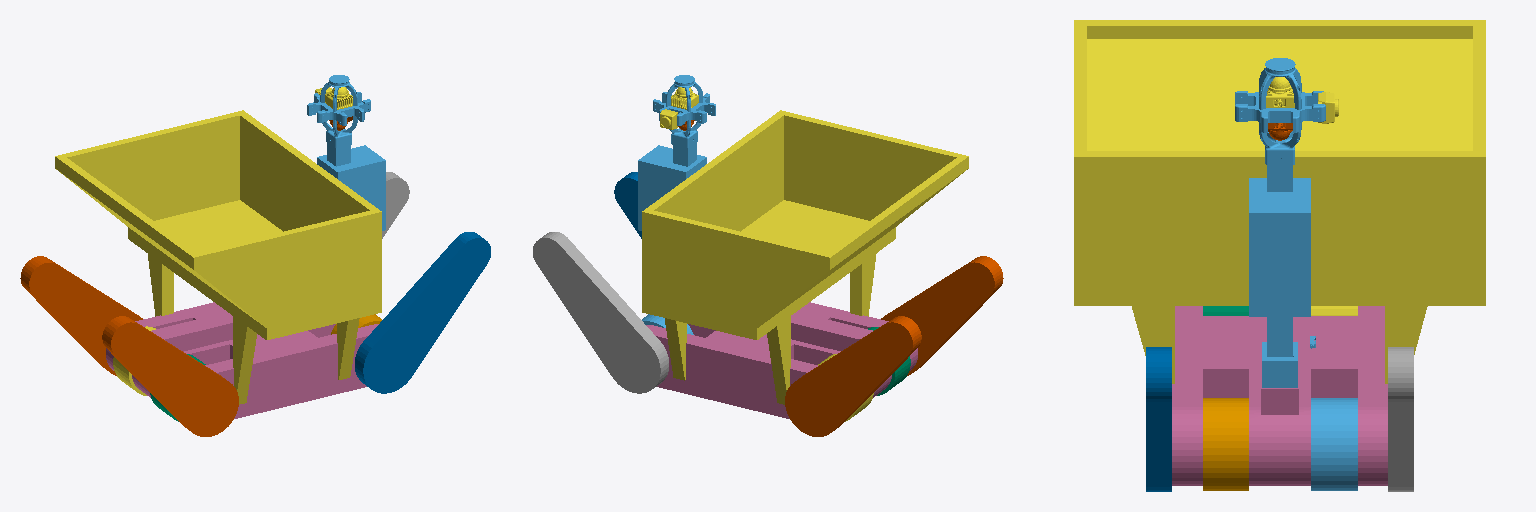
The robot description file, URDF, robot "rove_caged":
<robot name="rove_caged">
  <link name="DrumBL">
    <visual>
      <geometry>
        <mesh filename="meshes/DrumBL.obj" />
      </geometry>
    </visual>
    <collision>
      <geometry>
        <cylinder radius="0.089910" length="0.089000" /></geometry>
    <origin rpy="1.570796 0.000000 0.000000" xyz="0.290103 0.104500 0.088809" /></collision>
  <inertial><origin xyz="0.290103 0.104500 0.088809" rpy="0 0 0" /><mass value="1.0" /><inertia ixx="0.003356" iyy="0.005389" izz="0.003353" ixy="0" ixz="0" iyz="0" /></inertial></link>
  <link name="DrumBR">
    <visual>
      <geometry>
        <mesh filename="meshes/DrumBR.obj" />
      </geometry>
    </visual>
    <collision>
      <geometry>
        <cylinder radius="0.089910" length="0.090000" /></geometry>
    <origin rpy="1.570796 0.000000 0.000000" xyz="0.290343 0.314000 0.088809" /></collision>
  <inertial><origin xyz="0.290343 0.314000 0.088809" rpy="0 0 0" /><mass value="1.0" /><inertia ixx="0.003371" iyy="0.005389" izz="0.003368" ixy="0" ixz="0" iyz="0" /></inertial></link>
  <link name="DrumFL">
    <visual>
      <geometry>
        <mesh filename="meshes/DrumFL.obj" />
      </geometry>
    </visual>
    <collision>
      <geometry>
        <cylinder radius="0.089910" length="0.089000" /></geometry>
    <origin rpy="1.570796 0.000000 0.000000" xyz="-0.299897 0.104500 0.088809" /></collision>
  <inertial><origin xyz="-0.299897 0.104500 0.088809" rpy="0 0 0" /><mass value="1.0" /><inertia ixx="0.003356" iyy="0.005389" izz="0.003353" ixy="0" ixz="0" iyz="0" /></inertial></link>
  <link name="DrumFR">
    <visual>
      <geometry>
        <mesh filename="meshes/DrumFR.obj" />
      </geometry>
    </visual>
    <collision>
      <geometry>
        <cylinder radius="0.089910" length="0.090000" /></geometry>
    <origin rpy="1.570796 0.000000 0.000000" xyz="-0.299657 0.314000 0.088809" /></collision>
  <inertial><origin xyz="-0.299657 0.314000 0.088809" rpy="0 0 0" /><mass value="1.0" /><inertia ixx="0.003371" iyy="0.005389" izz="0.003368" ixy="0" ixz="0" iyz="0" /></inertial></link>
  <link name="FlipperBL">
    <visual>
      <geometry>
        <mesh filename="meshes/FlipperBL.obj" />
      </geometry>
    </visual>
    <collision>
      <geometry>
        <box size="0.423242 0.050000 0.422734" /></geometry>
    <origin rpy="0 0 0" xyz="0.412076 -0.025000 0.210185" /></collision>
  <inertial><origin xyz="0.412076 -0.025000 0.210185" rpy="0 0 0" /><mass value="1.0" /><inertia ixx="0.015100" iyy="0.029820" izz="0.015136" ixy="0" ixz="0" iyz="0" /></inertial></link>
  <link name="FlipperFL">
    <visual>
      <geometry>
        <mesh filename="meshes/FlipperFL.obj" />
      </geometry>
    </visual>
    <collision>
      <geometry>
        <box size="0.422734 0.050000 0.423242" /></geometry>
    <origin rpy="0 0 0" xyz="-0.421153 -0.025000 0.210662" /></collision>
  <inertial><origin xyz="-0.421153 -0.025000 0.210662" rpy="0 0 0" /><mass value="1.0" /><inertia ixx="0.015136" iyy="0.029820" izz="0.015100" ixy="0" ixz="0" iyz="0" /></inertial></link>
  <link name="Core">
    <visual>
      <geometry>
        <mesh filename="meshes/Core.obj" />
      </geometry>
    </visual>
    <collision>
      <geometry>
        <box size="0.817613 0.418000 0.092314" /></geometry>
    <origin rpy="0 0 0" xyz="-0.038583 0.209000 0.174966" /></collision>
  <inertial><origin xyz="-0.038583 0.209000 0.051272" rpy="0 0 0" /><mass value="1.0" /><inertia ixx="0.018317" iyy="0.059464" izz="0.070268" ixy="0" ixz="0" iyz="0" /></inertial></link>
  <joint name="joint_revolute" type="continuous">
    <origin xyz="-0.299777 0.149 0.0888089" rpy="0 0 0" />
    <parent link="Core" />
    <child link="DrumFL_pivot" />
    <axis xyz="0 -1 0" />
    <limit effort="10" velocity="1" />
  </joint>
  <link name="DrumFL_pivot" />
  <joint name="joint_revolute_offset" type="fixed">
    <origin xyz="0.299777 -0.149 -0.0888089" rpy="0 0 0" />
    <parent link="DrumFL_pivot" />
    <child link="DrumFL" />
  </joint>
  <joint name="joint_revolute_2" type="continuous">
    <origin xyz="-0.299777 0.269 0.0888089" rpy="0 0 0" />
    <parent link="Core" />
    <child link="DrumFR_pivot" />
    <axis xyz="0 1 0" />
    <limit effort="10" velocity="1" />
  </joint>
  <link name="DrumFR_pivot" />
  <joint name="joint_revolute_2_offset" type="fixed">
    <origin xyz="0.299777 -0.269 -0.0888089" rpy="0 0 0" />
    <parent link="DrumFR_pivot" />
    <child link="DrumFR" />
  </joint>
  <joint name="joint_revolute_3" type="continuous">
    <origin xyz="0.290223 0.149 0.0888089" rpy="0 0 0" />
    <parent link="Core" />
    <child link="DrumBL_pivot" />
    <axis xyz="0 -1 0" />
    <limit effort="10" velocity="1" />
  </joint>
  <link name="DrumBL_pivot" />
  <joint name="joint_revolute_3_offset" type="fixed">
    <origin xyz="-0.290223 -0.149 -0.0888089" rpy="0 0 0" />
    <parent link="DrumBL_pivot" />
    <child link="DrumBL" />
  </joint>
  <joint name="joint_revolute_4" type="continuous">
    <origin xyz="0.290223 0.290223 0.0888089" rpy="0 0 0" />
    <parent link="Core" />
    <child link="DrumBR_pivot" />
    <axis xyz="0 1 0" />
    <limit effort="10" velocity="1" />
  </joint>
  <link name="DrumBR_pivot" />
  <joint name="joint_revolute_4_offset" type="fixed">
    <origin xyz="-0.290223 -0.29 -0.0888089" rpy="0 0 0" />
    <parent link="DrumBR_pivot" />
    <child link="DrumBR" />
  </joint>
  <joint name="joint_revolute_5" type="revolute">
    <origin xyz="0.290223 0 0.0888089" rpy="0 0 0" />
    <parent link="Core" />
    <child link="FlipperBL_pivot" />
    <axis xyz="-1.77962e-08 -1 0" />
    <limit lower="-3.14159" upper="3.14159" effort="10" velocity="1" />
  </joint>
  <link name="FlipperBL_pivot" />
  <joint name="joint_revolute_5_offset" type="fixed">
    <origin xyz="-0.290223 0 -0.0888089" rpy="0 0 0" />
    <parent link="FlipperBL_pivot" />
    <child link="FlipperBL" />
  </joint>
  <joint name="joint_revolute_6" type="revolute">
    <origin xyz="-0.299777 0 0.0888089" rpy="0 0 0" />
    <parent link="Core" />
    <child link="FlipperFL_pivot" />
    <axis xyz="1.77962e-08 -1 0" />
    <limit lower="-3.14159" upper="3.14159" effort="10" velocity="1" />
  </joint>
  <link name="FlipperFL_pivot" />
  <joint name="joint_revolute_6_offset" type="fixed">
    <origin xyz="0.299777 0 -0.0888089" rpy="0 0 0" />
    <parent link="FlipperFL_pivot" />
    <child link="FlipperFL" />
  </joint>
  <link name="FlipperFR">
    <visual>
      <geometry>
        <mesh filename="meshes/FlipperFR_2.obj" />
      </geometry>
    </visual>
    <collision>
      <geometry>
        <box size="0.422734 0.050000 0.423242" /></geometry>
    <origin rpy="0 0 0" xyz="-0.421153 0.443000 0.210662" /></collision>
  <inertial><origin xyz="-0.421153 0.443000 0.210662" rpy="0 0 0" /><mass value="1.0" /><inertia ixx="0.015136" iyy="0.029820" izz="0.015100" ixy="0" ixz="0" iyz="0" /></inertial></link>
  <joint name="joint_revolute_7" type="revolute">
    <origin xyz="-0.299777 0.418 0.0888089" rpy="0 0 0" />
    <parent link="Core" />
    <child link="FlipperFR_pivot" />
    <axis xyz="0 1 0" />
    <limit lower="-3.14159" upper="3.14159" effort="10" velocity="1" />
  </joint>
  <link name="FlipperFR_pivot" />
  <joint name="joint_revolute_7_offset" type="fixed">
    <origin xyz="0.299777 -0.418 -0.0888089" rpy="0 0 0" />
    <parent link="FlipperFR_pivot" />
    <child link="FlipperFR" />
  </joint>
  <link name="FlipperBR">
    <visual>
      <geometry>
        <mesh filename="meshes/FlipperBR_2.obj" />
      </geometry>
    </visual>
    <collision>
      <geometry>
        <box size="0.423242 0.050000 0.422734" /></geometry>
    <origin rpy="0 0 0" xyz="0.412076 0.443000 0.210185" /></collision>
  <inertial><origin xyz="0.412076 0.443000 0.210185" rpy="0 0 0" /><mass value="1.0" /><inertia ixx="0.015100" iyy="0.029820" izz="0.015136" ixy="0" ixz="0" iyz="0" /></inertial></link>
  <joint name="joint_revolute_8" type="revolute">
    <origin xyz="0.290223 0.418 0.0888089" rpy="0 0 0" />
    <parent link="Core" />
    <child link="FlipperBR_pivot" />
    <axis xyz="0 1 0" />
    <limit lower="-3.14159" upper="3.14159" effort="10" velocity="1" />
  </joint>
  <link name="FlipperBR_pivot" />
  <joint name="joint_revolute_8_offset" type="fixed">
    <origin xyz="-0.290223 -0.418 -0.0888089" rpy="0 0 0" />
    <parent link="FlipperBR_pivot" />
    <child link="FlipperBR" />
  </joint>
  <link name="pole">
    <visual>
      <geometry>
        <mesh filename="meshes/pole.obj" />
      </geometry>
    </visual>
    </link>
  <joint name="joint_revolute_9" type="fixed">
    <origin xyz="0.31746 0.209 0.221123" rpy="0 0 0" />
    <parent link="Core" />
    <child link="pole_pivot" />
    <axis xyz="0 0 1" />
    <limit lower="-3.14159" upper="3.14159" effort="10" velocity="1" />
  </joint>
  <link name="pole_pivot" />
  <joint name="joint_revolute_9_offset" type="fixed">
    <origin xyz="-0.0467844 0.000515604 -0.00281394" rpy="0 0 -1.5708" />
    <parent link="pole_pivot" />
    <child link="pole" />
  </joint>
  <link name="dji_mid360">
    <visual>
      <geometry>
        <mesh filename="meshes/dji_mid360.obj" />
      </geometry>
    </visual>
    </link>
  <joint name="joint_revolute_10" type="fixed">
    <origin xyz="-9.31322e-11 -2.66092e-11 0.587" rpy="0 0 0" />
    <parent link="pole" />
    <child link="dji_mid360_pivot" />
    <axis xyz="0 0 1" />
    <limit lower="-3.14159" upper="3.14159" effort="10" velocity="1" />
  </joint>
  <link name="dji_mid360_pivot" />
  <joint name="joint_revolute_10_offset" type="fixed">
    <origin xyz="0.00112693 0.0015559 0.0289736" rpy="1.5708 0 1.5708" />
    <parent link="dji_mid360_pivot" />
    <child link="dji_mid360" />
  </joint>
  <link name="dji_mid360_2">
    <visual>
      <geometry>
        <mesh filename="meshes/dji_mid360.obj" />
      </geometry>
    </visual>
    </link>
  <joint name="joint_revolute_11" type="fixed">
    <origin xyz="4.59098e-18 0 0.574" rpy="0 0 0" />
    <parent link="pole" />
    <child link="dji_mid360_2_pivot" />
    <axis xyz="0 0 -1" />
    <limit lower="-3.14159" upper="3.14159" effort="10" velocity="1" />
  </joint>
  <link name="dji_mid360_2_pivot" />
  <joint name="joint_revolute_11_offset" type="fixed">
    <origin xyz="0.000551953 -0.000521468 -0.0284671" rpy="-1.5708 0 1.5708" />
    <parent link="dji_mid360_2_pivot" />
    <child link="dji_mid360_2" />
  </joint>
  <link name="chinese_camera">
    <visual>
      <geometry>
        <mesh filename="meshes/chinese_camera.obj" />
      </geometry>
    </visual>
    </link>
  <joint name="joint_revolute_12" type="fixed">
    <origin xyz="0.0725343 -0.024 0.587101" rpy="0 0 0" />
    <parent link="pole" />
    <child link="chinese_camera_pivot" />
    <axis xyz="0 1 0" />
    <limit lower="-3.14159" upper="3.14159" effort="10" velocity="1" />
  </joint>
  <link name="chinese_camera_pivot" />
  <joint name="joint_revolute_12_offset" type="fixed">
    <origin xyz="0.0154955 0.0243019 -0.00922952" rpy="-1.5708 0 1.5708" />
    <parent link="chinese_camera_pivot" />
    <child link="chinese_camera" />
  </joint>
  <link name="chinese_camera_2">
    <visual>
      <geometry>
        <mesh filename="meshes/chinese_camera_2.obj" />
      </geometry>
    </visual>
    </link>
  <joint name="joint_revolute_13" type="fixed">
    <origin xyz="0.024 0.0730961 0.586861" rpy="0 0 0" />
    <parent link="pole" />
    <child link="chinese_camera_2_pivot" />
    <axis xyz="0 0.23939 0.970923" />
    <limit lower="-3.14159" upper="3.14159" effort="10" velocity="1" />
  </joint>
  <link name="chinese_camera_2_pivot" />
  <joint name="joint_revolute_13_offset" type="fixed">
    <origin xyz="-0.0239323 0.014361 -0.00867528" rpy="-1.5708 -1.38778e-16 3.14159" />
    <parent link="chinese_camera_2_pivot" />
    <child link="chinese_camera_2" />
  </joint>
  <link name="chinese_camera_3">
    <visual>
      <geometry>
        <mesh filename="meshes/chinese_camera_3.obj" />
      </geometry>
    </visual>
    </link>
  <joint name="joint_revolute_14" type="fixed">
    <origin xyz="-0.0730961 0.024 0.586861" rpy="0 0 0" />
    <parent link="pole" />
    <child link="chinese_camera_3_pivot" />
    <axis xyz="0 -1 0" />
    <limit lower="-3.14159" upper="3.14159" effort="10" velocity="1" />
  </joint>
  <link name="chinese_camera_3_pivot" />
  <joint name="joint_revolute_14_offset" type="fixed">
    <origin xyz="-0.0149206 -0.0234735 -0.00886397" rpy="-1.5708 5.55112e-17 -1.5708" />
    <parent link="chinese_camera_3_pivot" />
    <child link="chinese_camera_3" />
  </joint>
  <link name="chinese_camera_4">
    <visual>
      <geometry>
        <mesh filename="meshes/chinese_camera_4.obj" />
      </geometry>
    </visual>
    </link>
  <joint name="joint_revolute_15" type="revolute">
    <origin xyz="-0.024 -0.0727157 0.587006" rpy="0 0 0" />
    <parent link="pole" />
    <child link="chinese_camera_4_pivot" />
    <axis xyz="0 -0.46469 0.885474" />
    <limit lower="-3.14159" upper="3.14159" effort="10" velocity="1" />
  </joint>
  <link name="chinese_camera_4_pivot" />
  <joint name="joint_revolute_15_offset" type="fixed">
    <origin xyz="0.0248549 -0.0148706 -0.0090392" rpy="-1.5708 -2.22045e-16 1.60237e-31" />
    <parent link="chinese_camera_4_pivot" />
    <child link="chinese_camera_4" />
  </joint>
  <link name="chinese_camera_5">
    <visual>
      <geometry>
        <mesh filename="meshes/chinese_camera_6.obj" />
      </geometry>
    </visual>
    </link>
  <joint name="joint_revolute_16" type="fixed">
    <origin xyz="0.31746 0.209 0.192576" rpy="0 0 0" />
    <parent link="Core" />
    <child link="chinese_camera_5_pivot" />
    <axis xyz="1 0 0" />
    <limit lower="-3.14159" upper="3.14159" effort="10" velocity="1" />
  </joint>
  <link name="chinese_camera_5_pivot" />
  <joint name="joint_revolute_16_offset" type="fixed">
    <origin xyz="0.031733 -0.000947911 -0.0166233" rpy="-1.5708 5.55112e-17 1.5708" />
    <parent link="chinese_camera_5_pivot" />
    <child link="chinese_camera_5" />
  </joint>
  <link name="vn300_vectornav">
    <visual>
      <geometry>
        <mesh filename="meshes/vn300_vectornav.obj" />
      </geometry>
    </visual>
    </link>
  <joint name="joint_fixed" type="fixed">
    <origin xyz="-0.00477682 0.333818 0.168809" rpy="0 0 0" />
    <parent link="Core" />
    <child link="vn300_vectornav_pivot" />
    <axis xyz="0 0 1" />
  </joint>
  <link name="vn300_vectornav_pivot" />
  <joint name="joint_fixed_offset" type="fixed">
    <origin xyz="0.00764515 -0.0562217 -0.0124848" rpy="-1.5708 1.5708 1.5708" />
    <parent link="vn300_vectornav_pivot" />
    <child link="vn300_vectornav" />
  </joint>
  <link name="cage">
    <visual>
      <geometry>
        <mesh filename="meshes/cage_2.obj" />
      </geometry>
    </visual>
    <collision>
      <geometry>
        <box size="0.622300 0.596900 0.793750" /></geometry>
    <origin rpy="0 0 0" xyz="0.120650 0.209550 0.000000" /></collision>
  <inertial><origin xyz="0.120650 0.209550 0.000000" rpy="0 0 0" /><mass value="1.0" /><inertia ixx="0.082194" iyy="0.084775" izz="0.061962" ixy="0" ixz="0" iyz="0" /></inertial></link>
  <joint name="joint_fixed_2" type="fixed">
    <origin xyz="-0.124777 0.418 0.0888089" rpy="0 0 0" />
    <parent link="Core" />
    <child link="cage_pivot" />
    <axis xyz="0 1 0" />
  </joint>
  <link name="cage_pivot" />
  <joint name="joint_fixed_2_offset" type="fixed">
    <origin xyz="0.11731 -0.208943 0.0541418" rpy="1.5708 1.2326e-32 3.14159" />
    <parent link="cage_pivot" />
    <child link="cage" />
  </joint>
<link name="DrumW_L0"><collision><geometry><cylinder radius="0.089900" length="0.080000" /></geometry><origin rpy="1.570796 0 0" xyz="0 0 0" /></collision></link><joint name="DrumW_L0_joint" type="continuous"><parent link="Core" /><child link="DrumW_L0" /><origin xyz="-0.152277 0.149000 0.088809" rpy="0 0 0" /><axis xyz="0 -1 0" /></joint><link name="DrumW_L1"><collision><geometry><cylinder radius="0.089900" length="0.080000" /></geometry><origin rpy="1.570796 0 0" xyz="0 0 0" /></collision></link><joint name="DrumW_L1_joint" type="continuous"><parent link="Core" /><child link="DrumW_L1" /><origin xyz="-0.004777 0.149000 0.088809" rpy="0 0 0" /><axis xyz="0 -1 0" /></joint><link name="DrumW_L2"><collision><geometry><cylinder radius="0.089900" length="0.080000" /></geometry><origin rpy="1.570796 0 0" xyz="0 0 0" /></collision></link><joint name="DrumW_L2_joint" type="continuous"><parent link="Core" /><child link="DrumW_L2" /><origin xyz="0.142723 0.149000 0.088809" rpy="0 0 0" /><axis xyz="0 -1 0" /></joint><link name="DrumW_R0"><collision><geometry><cylinder radius="0.089900" length="0.080000" /></geometry><origin rpy="1.570796 0 0" xyz="0 0 0" /></collision></link><joint name="DrumW_R0_joint" type="continuous"><parent link="Core" /><child link="DrumW_R0" /><origin xyz="-0.152277 0.274306 0.088809" rpy="0 0 0" /><axis xyz="0 1 0" /></joint><link name="DrumW_R1"><collision><geometry><cylinder radius="0.089900" length="0.080000" /></geometry><origin rpy="1.570796 0 0" xyz="0 0 0" /></collision></link><joint name="DrumW_R1_joint" type="continuous"><parent link="Core" /><child link="DrumW_R1" /><origin xyz="-0.004777 0.279612 0.088809" rpy="0 0 0" /><axis xyz="0 1 0" /></joint><link name="DrumW_R2"><collision><geometry><cylinder radius="0.089900" length="0.080000" /></geometry><origin rpy="1.570796 0 0" xyz="0 0 0" /></collision></link><joint name="DrumW_R2_joint" type="continuous"><parent link="Core" /><child link="DrumW_R2" /><origin xyz="0.142723 0.284917 0.088809" rpy="0 0 0" /><axis xyz="0 1 0" /></joint></robot>

--- Render facts (derived) ---
The picture shows the robot from 3 angles, left to right: view 1: azimuth 30°, elevation 25°; view 2: azimuth 150°, elevation 25°; view 3: azimuth 270°, elevation 25°; orthographic projection.
Model rove_caged with 43 links and 42 joints (5 revolute, 10 continuous, 27 fixed), rooted at Core, posed every joint at zero.
Visible links, largest first — view 1: cage, Core, FlipperBL, FlipperFL, FlipperFR, pole, FlipperBR; view 2: cage, Core, FlipperBR, FlipperFR, FlipperFL, pole, FlipperBL; view 3: cage, Core, pole, DrumBR, DrumBL, FlipperBL, FlipperBR, dji_mid360.
Boxes of the visible links, box(x1,y1,x2,y2) form: cage: box(55, 110, 381, 404); Core: box(106, 302, 378, 418); FlipperBL: box(355, 232, 490, 393); FlipperFL: box(102, 316, 238, 436); FlipperFR: box(20, 256, 142, 375); pole: box(307, 75, 385, 230); FlipperBR: box(382, 172, 409, 238); cage: box(642, 110, 968, 404); Core: box(646, 302, 917, 418); FlipperBR: box(533, 232, 668, 393); FlipperFR: box(785, 316, 921, 436); FlipperFL: box(881, 256, 1003, 375); pole: box(638, 75, 715, 230); FlipperBL: box(614, 172, 641, 238); cage: box(1074, 20, 1485, 383); Core: box(1172, 306, 1387, 485); pole: box(1235, 58, 1325, 387); DrumBR: box(1311, 398, 1357, 490); DrumBL: box(1203, 398, 1248, 490); FlipperBL: box(1146, 347, 1171, 491); FlipperBR: box(1388, 347, 1413, 491); dji_mid360: box(1266, 77, 1294, 107).
Bounding box of the posed robot: 1.26 × 0.7938 × 0.8905 m (x, y, z).
Meshes: 18 distinct files referenced, 15 mesh visuals loaded (14 OBJ); not drawn: 4 (reference not matched to a file when rendering).
